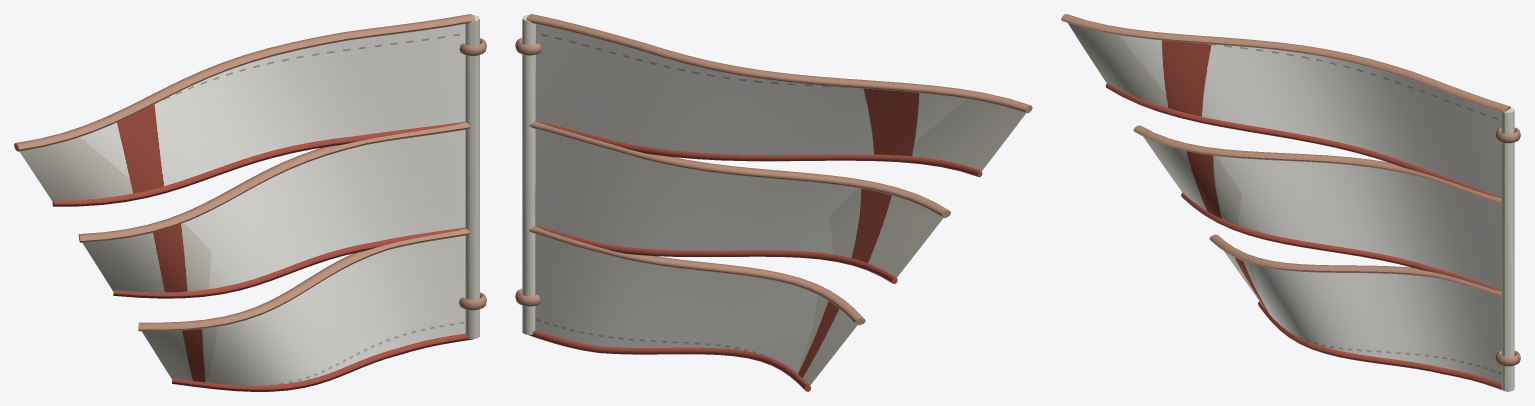
File: Pennant_25_SSR_赤銅・濃紺.glb
The picture shows the model from 3 angles, left to right: view 1: azimuth 30°, elevation 25°; view 2: azimuth 150°, elevation 25°; view 3: azimuth 330°, elevation 25°; orthographic projection. The views are drawn at different scales.
Visible parts, largest first — view 1: Pennant_25_SSR; view 2: Pennant_25_SSR; view 3: Pennant_25_SSR.
Part boxes in pixels (x1=…): Pennant_25_SSR: x1=14, y1=14, x2=486, y2=391; Pennant_25_SSR: x1=515, y1=14, x2=1032, y2=391; Pennant_25_SSR: x1=1061, y1=14, x2=1520, y2=391.
Size of the model in its own units: 0.2928 by 0.1876 by 0.0435.
Materials: 3 (3 with a texture image).
